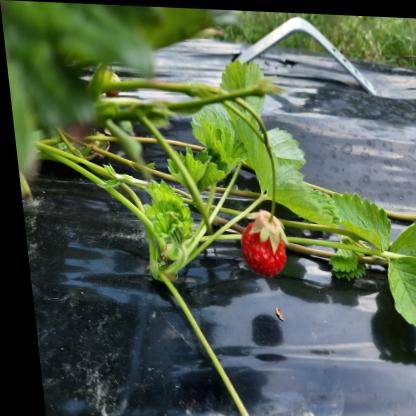ripe: (234, 214, 283, 273)
